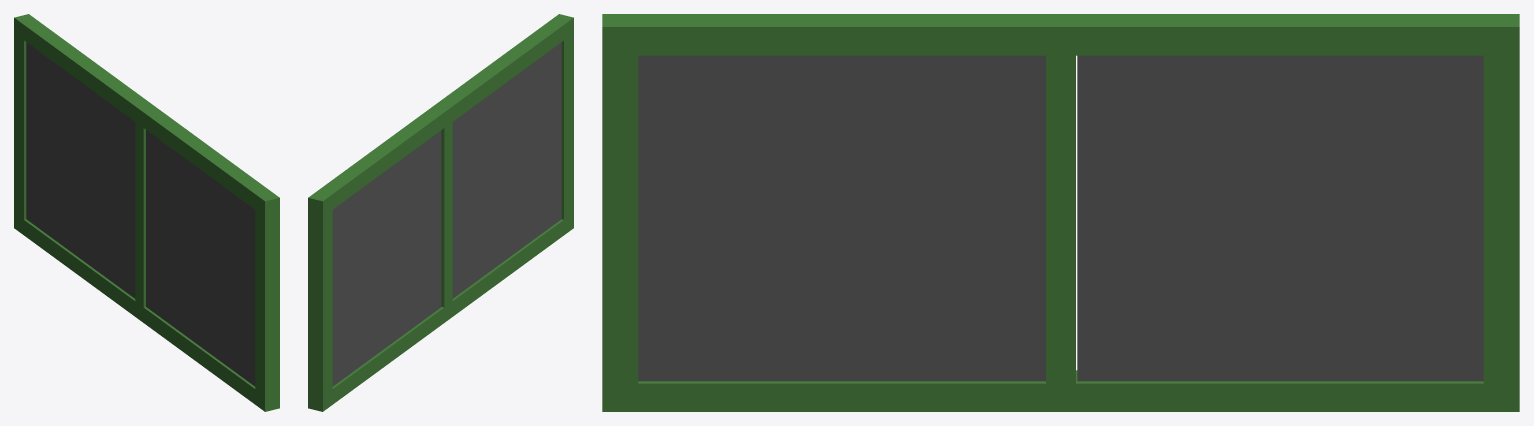
Rendered from Office_Window.fbx.
The picture shows the model from 3 angles, left to right: view 1: azimuth 30°, elevation 25°; view 2: azimuth 150°, elevation 25°; view 3: azimuth 270°, elevation 25°; orthographic projection. The views are drawn at different scales.
Visible parts, largest first — view 1: Office_Window; view 2: Office_Window; view 3: Office_Window.
Part boxes in pixels (x1,y1,x2,y2): Office_Window: (14, 14, 279, 411); Office_Window: (308, 14, 573, 411); Office_Window: (602, 14, 1519, 411).
Size of the model in its own units: 11.96 by 163 by 352.
